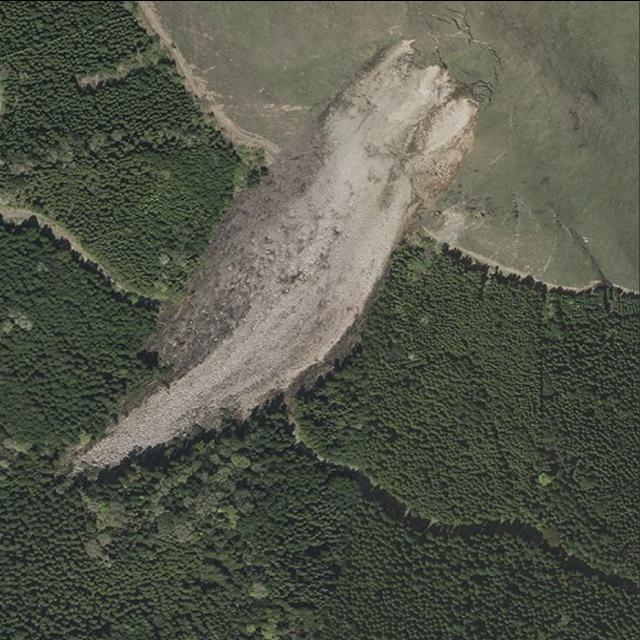landslide: (72, 40, 477, 469)
